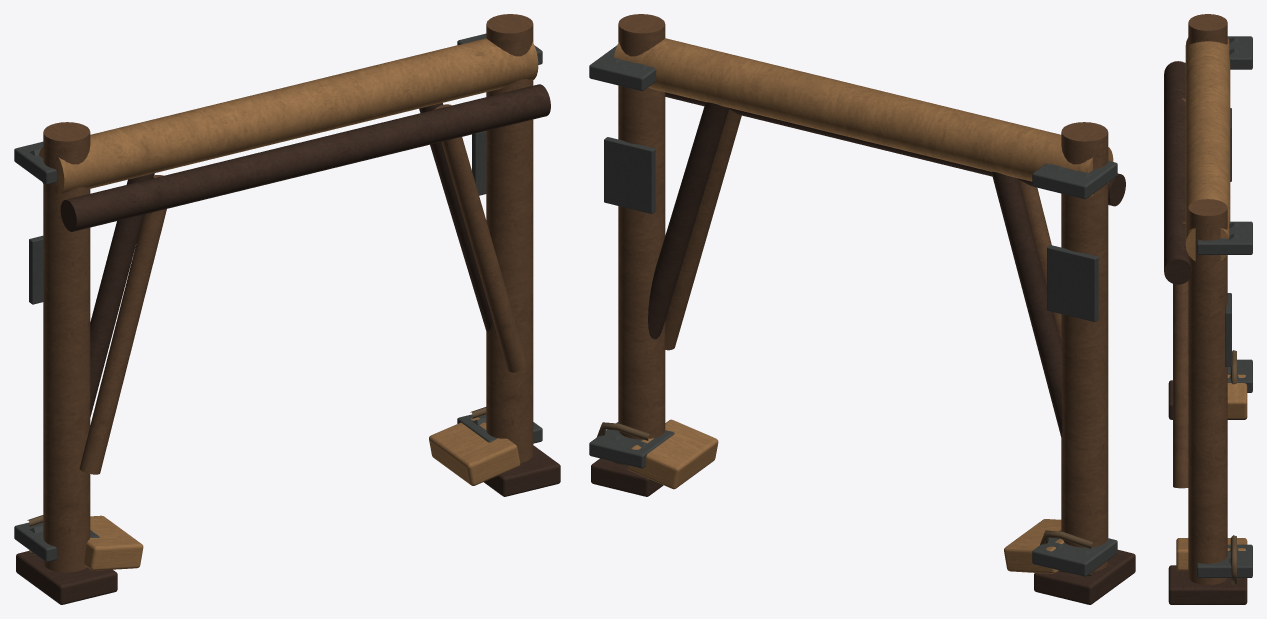
Rendered from timber_shoring.glb.
The picture shows the model from 3 angles, left to right: view 1: azimuth 30°, elevation 25°; view 2: azimuth 150°, elevation 25°; view 3: azimuth 270°, elevation 25°; orthographic projection. The views are drawn at different scales.
Parts seen in each view (by area): view 1: timber_shoring; view 2: timber_shoring; view 3: timber_shoring.
Boxes of the visible parts, left/top/right/bottom form: timber_shoring: left=14, top=14, right=560, bottom=604; timber_shoring: left=589, top=14, right=1135, bottom=604; timber_shoring: left=1164, top=14, right=1252, bottom=604.
Size of the model in its own units: 2.8 by 2.4 by 0.5.
1 material, 1 textured.
